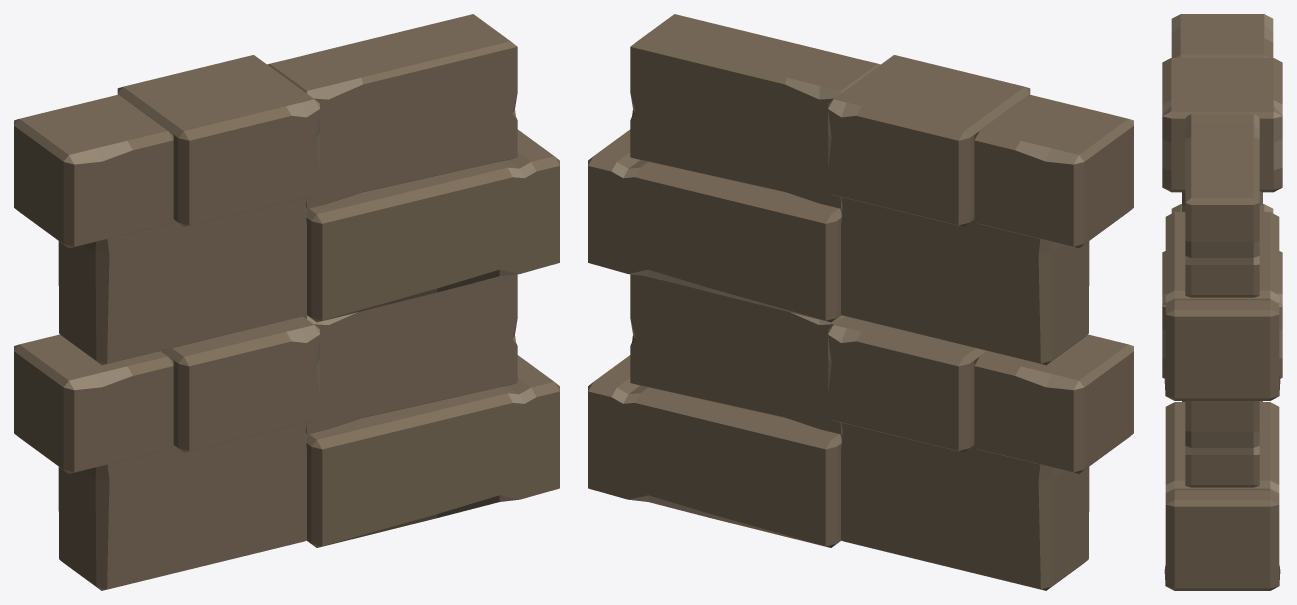
File: Dungeon_Decorative_Wall.glb
3 renders of one model, left to right at view 1: azimuth 30°, elevation 25°; view 2: azimuth 150°, elevation 25°; view 3: azimuth 270°, elevation 25°, orthographic. The views are drawn at different scales.
Parts seen in each view (by area): view 1: Decorative_Wall; view 2: Decorative_Wall; view 3: Decorative_Wall.
Boxes of the visible parts, left/top/right/bottom form: Decorative_Wall: left=14, top=14, right=559, bottom=590; Decorative_Wall: left=588, top=14, right=1133, bottom=590; Decorative_Wall: left=1162, top=14, right=1282, bottom=590.
Size of the model in its own units: 1.74 by 1.52 by 0.438.
